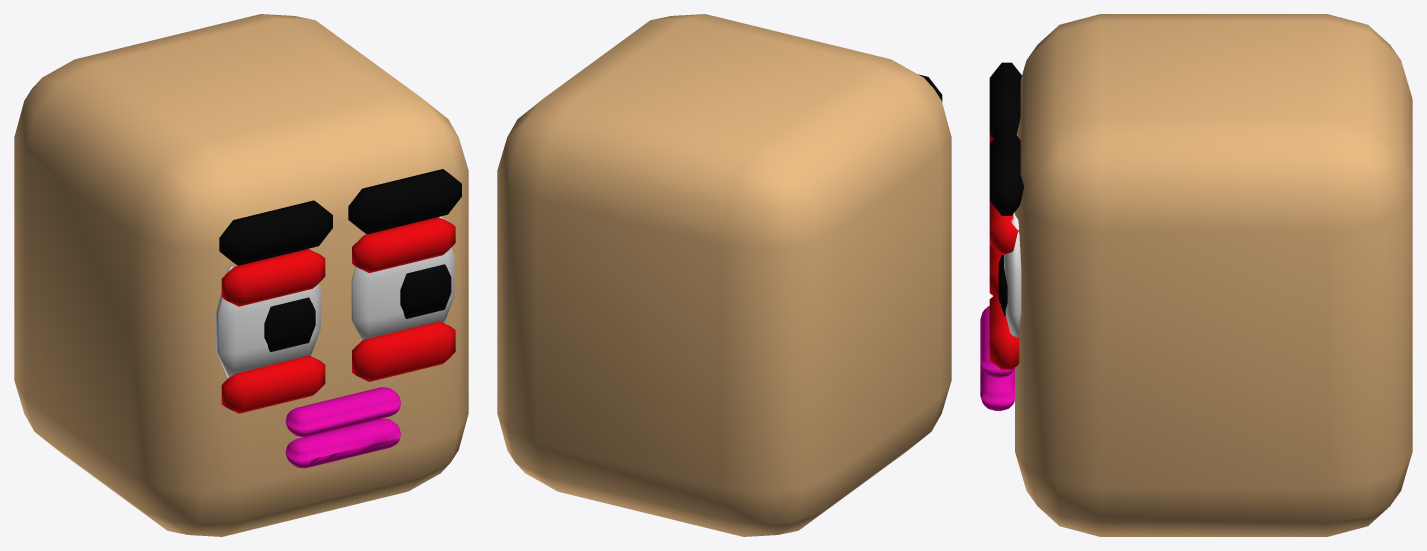
Rendered from robot_head6.glb.
The picture shows the model from 3 angles, left to right: view 1: azimuth 30°, elevation 25°; view 2: azimuth 150°, elevation 25°; view 3: azimuth 270°, elevation 25°; orthographic projection. The views are drawn at different scales.
Visible parts, largest first — view 1: robot_head; view 2: robot_head; view 3: robot_head.
Boxes of the visible parts, bbox=[...] form: robot_head: bbox=[14, 14, 468, 536]; robot_head: bbox=[497, 14, 951, 536]; robot_head: bbox=[980, 14, 1412, 536].
Bounding box in the file's own units: 0.7 × 0.8 × 0.761.
